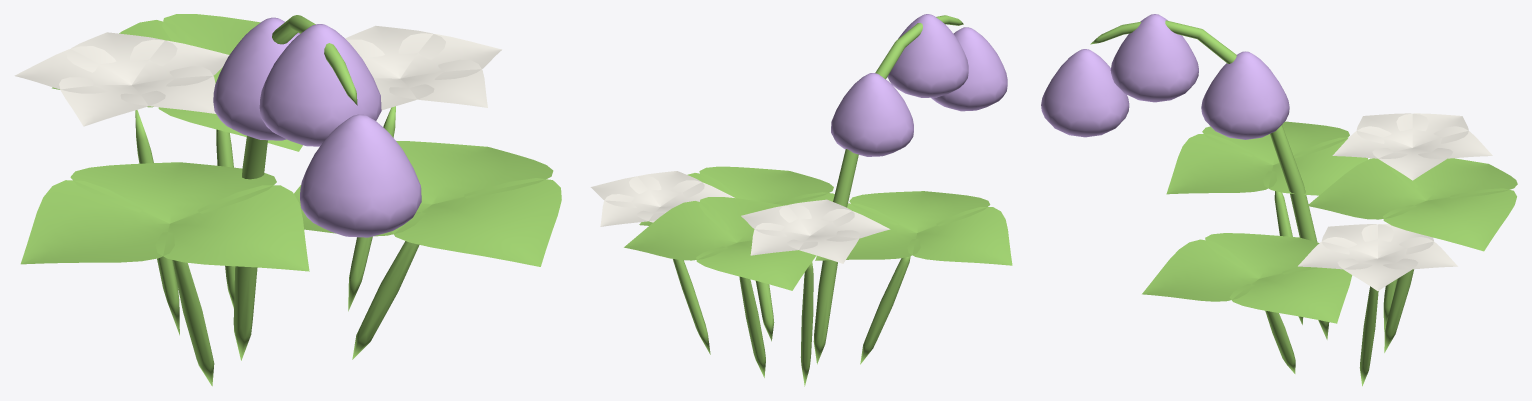
File: flower_cluster.glb
3 renders of one model, left to right at view 1: azimuth 30°, elevation 25°; view 2: azimuth 150°, elevation 25°; view 3: azimuth 270°, elevation 25°, orthographic. The views are drawn at different scales.
Visible parts, largest first — view 1: SM_Forest_FlowerCluster; view 2: SM_Forest_FlowerCluster; view 3: SM_Forest_FlowerCluster.
Part boxes in pixels (bbox=[...]): SM_Forest_FlowerCluster: bbox=[14, 14, 561, 386]; SM_Forest_FlowerCluster: bbox=[590, 14, 1012, 386]; SM_Forest_FlowerCluster: bbox=[1041, 14, 1517, 386].
Size of the model in its own units: 1.31 by 0.9946 by 1.37.
